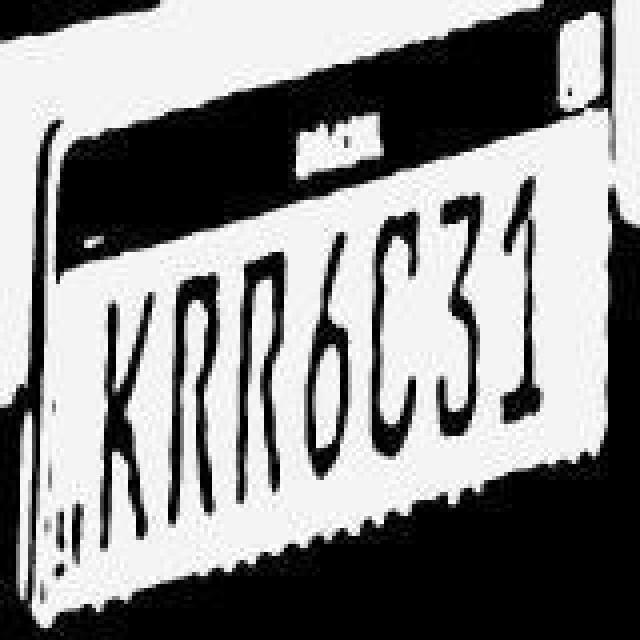1: (492, 174, 548, 426)
3: (428, 192, 484, 440)
6: (298, 234, 358, 486)
C: (366, 210, 426, 462)
K: (98, 292, 158, 556)
R: (162, 270, 222, 530), (234, 248, 294, 504)
